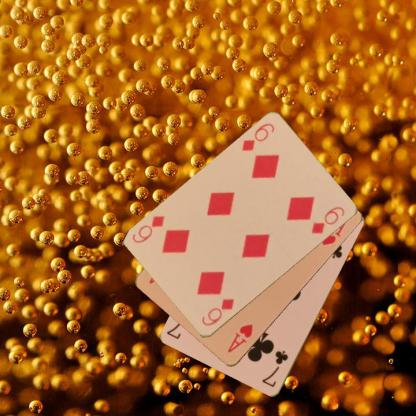6d: (198, 296, 236, 328), (239, 121, 276, 153)
7c: (259, 348, 289, 389)
Ah: (224, 321, 255, 354)
